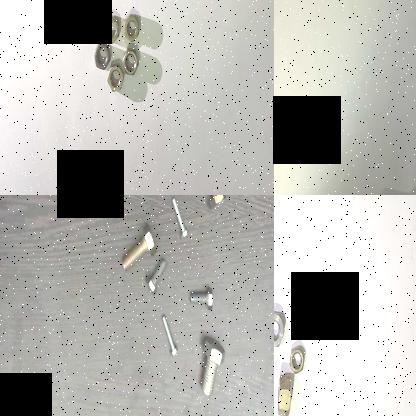Bolts: (198, 332, 228, 400), (120, 220, 156, 270), (144, 254, 172, 298), (182, 282, 215, 312), (159, 310, 179, 358), (168, 196, 188, 238), (201, 195, 225, 211)
NUTS: (292, 288, 318, 332), (274, 371, 294, 416), (100, 10, 121, 48), (336, 288, 356, 322), (92, 37, 110, 73), (105, 60, 124, 94), (122, 12, 141, 46), (119, 48, 140, 76), (288, 344, 306, 376), (274, 308, 286, 350)
